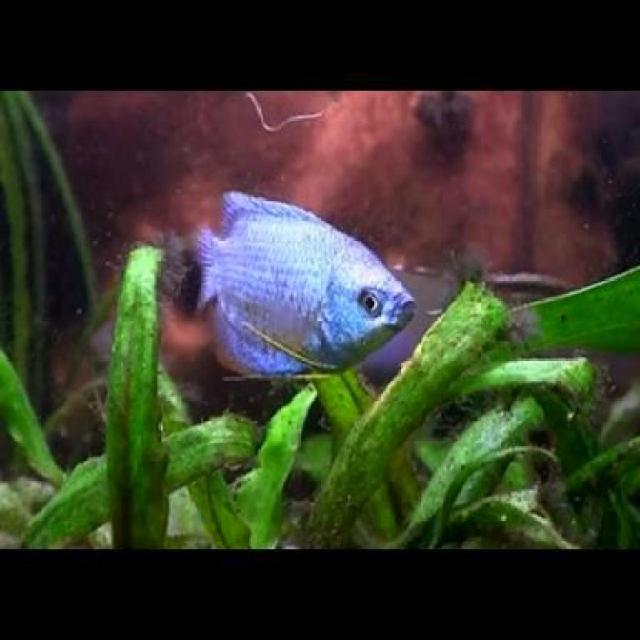Gourami: (192, 186, 417, 380)
